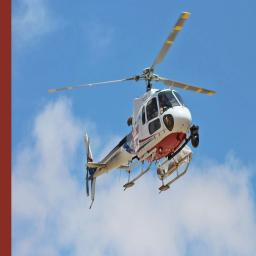helicopter: (46, 9, 221, 214)
